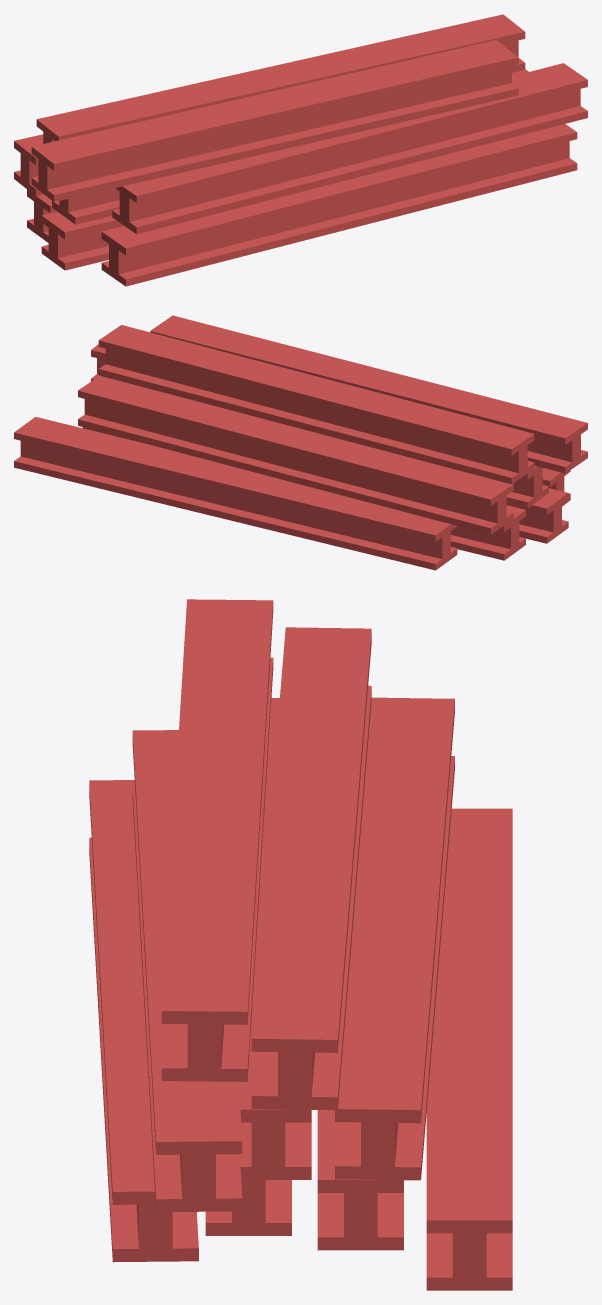
File: Wh_Metal_Beams.fbx
3 views of the same model, one above another, from view 1: azimuth 30°, elevation 25°; view 2: azimuth 150°, elevation 25°; view 3: azimuth 270°, elevation 25° (orthographic). The views are drawn at different scales.
Visible parts, largest first — view 1: Cube.931; view 2: Cube.931; view 3: Cube.931.
Boxes of the visible parts, left/top/right/bottom form: Cube.931: left=14, top=14, right=587, bottom=286; Cube.931: left=14, top=315, right=587, bottom=570; Cube.931: left=89, top=599, right=512, bottom=1290.
Size of the model in its own units: 645 by 132 by 240.
